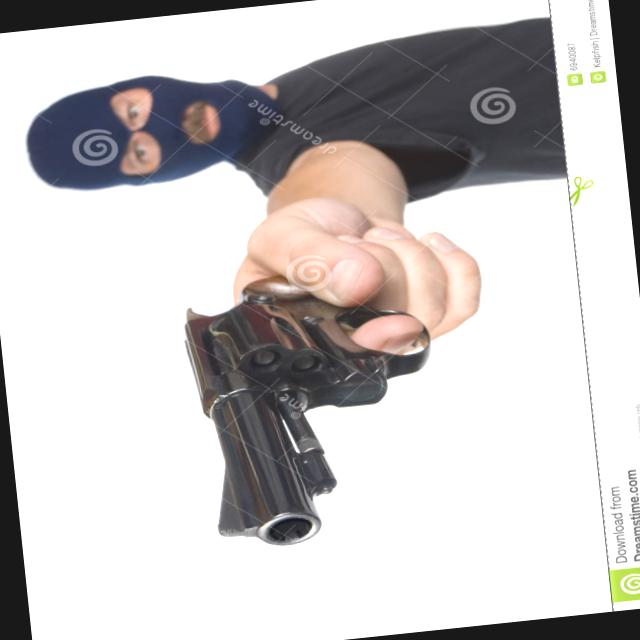handgun: (162, 252, 448, 556)
